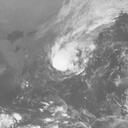cyclone: (50, 46, 79, 72)
